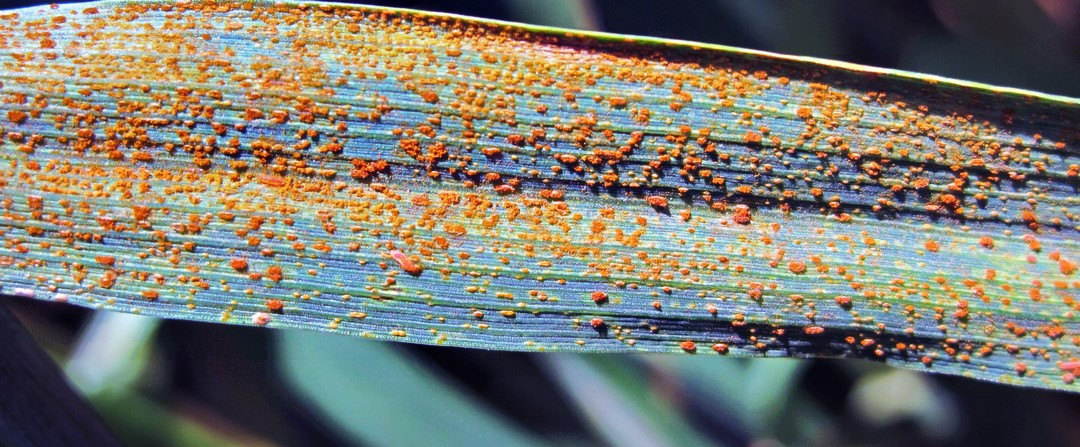Leaf Rust: (7, 11, 1028, 396)
